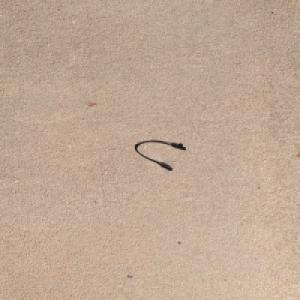Wire: (134, 138, 183, 168)
